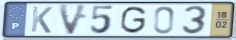0: (152, 5, 176, 35)
3: (180, 4, 209, 35)
5: (90, 4, 117, 36)
G: (119, 5, 149, 35)
K: (29, 5, 54, 34)
V: (57, 3, 90, 37)
